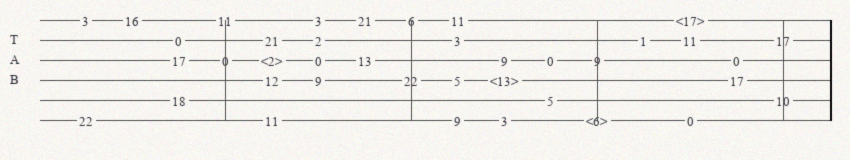0: (175, 34, 186, 47), (222, 54, 233, 67), (315, 54, 326, 67), (547, 54, 558, 67), (687, 114, 698, 127), (733, 54, 744, 67)
1: (640, 34, 651, 47)
10: (776, 94, 794, 107)
11: (218, 14, 236, 27), (265, 114, 283, 127), (451, 14, 469, 27), (683, 34, 701, 47)
12: (265, 74, 283, 87)
13: (358, 54, 376, 67)
16: (125, 14, 143, 27)
17: (172, 54, 190, 67), (730, 74, 748, 87), (776, 34, 794, 47)
18: (172, 94, 190, 107)
2: (315, 34, 326, 47)
21: (265, 34, 283, 47), (358, 14, 376, 27)
22: (79, 114, 97, 127), (404, 74, 422, 87)
3: (82, 14, 93, 27), (315, 14, 326, 27), (454, 34, 465, 47), (501, 114, 512, 127)
5: (454, 74, 465, 87), (547, 94, 558, 107)
6: (408, 14, 419, 27)
9: (315, 74, 326, 87), (454, 114, 465, 127), (501, 54, 512, 67), (594, 54, 605, 67)
harmonic: (490, 74, 523, 87), (676, 14, 709, 27), (261, 54, 287, 67), (586, 114, 612, 127)
